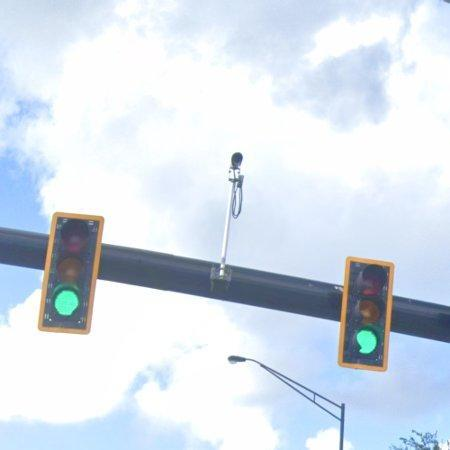traffic lights: (38, 212, 105, 334), (338, 256, 395, 374)
